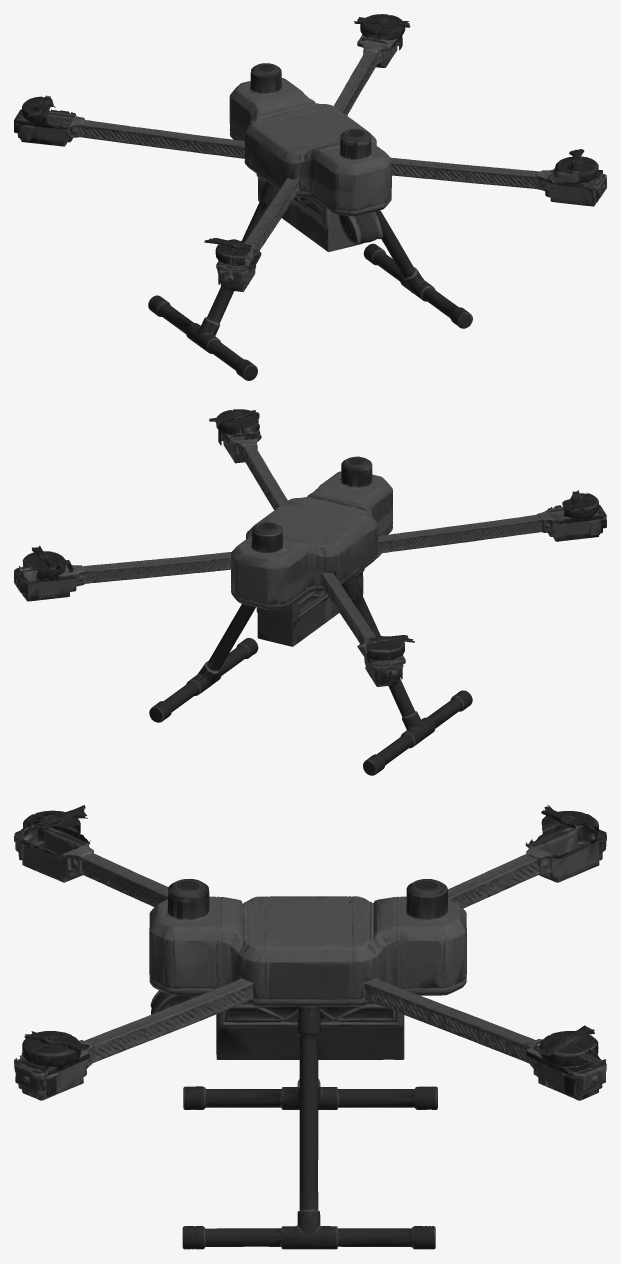
Rendered from sentinel.glb.
3 renders of one model, top to bottom at view 1: azimuth 30°, elevation 25°; view 2: azimuth 150°, elevation 25°; view 3: azimuth 270°, elevation 25°, orthographic. The views are drawn at different scales.
Visible parts, largest first — view 1: body; view 2: body; view 3: body.
Part boxes in pixels (bbox=[...]): body: bbox=[14, 14, 606, 380]; body: bbox=[14, 409, 606, 775]; body: bbox=[14, 804, 606, 1249].
Size of the model in its own units: 0.7632 by 0.4133 by 0.7579.
Materials: 1 (1 with a texture image).
